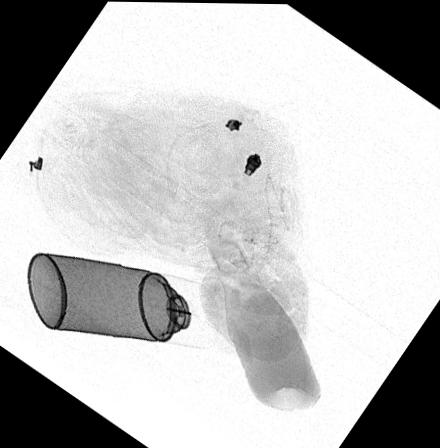Sprayer: (26, 252, 218, 347)
